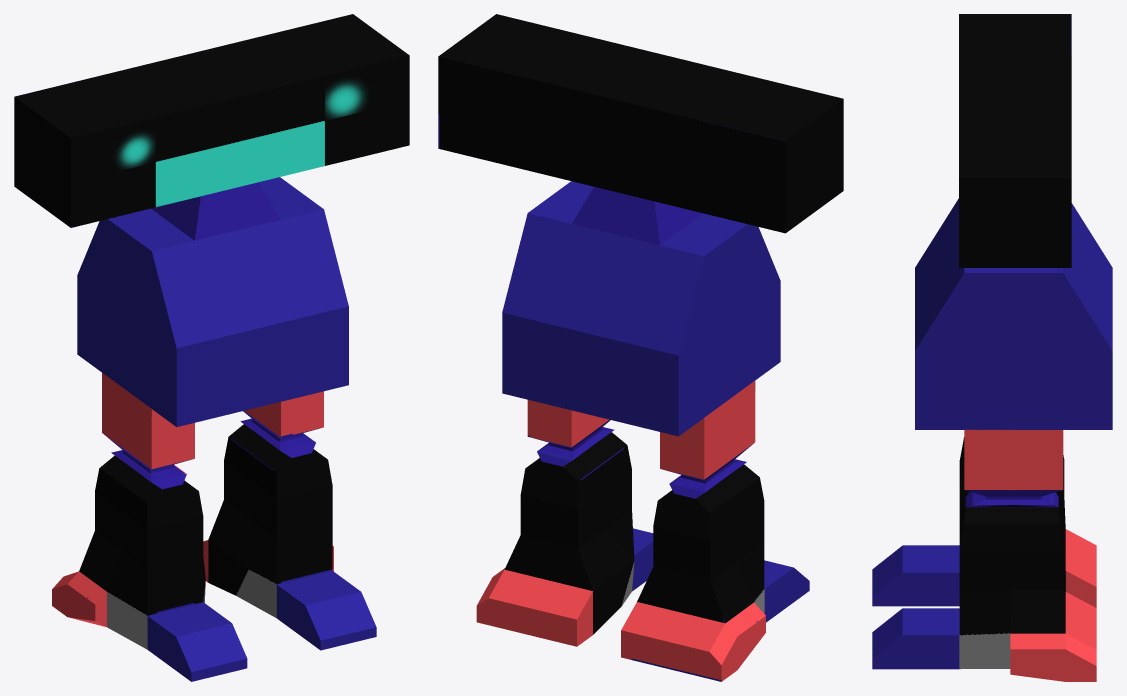
File: robo_10.fbx
3 views of the same model, side by side, from view 1: azimuth 30°, elevation 25°; view 2: azimuth 150°, elevation 25°; view 3: azimuth 270°, elevation 25° (orthographic). The views are drawn at different scales.
Visible parts, largest first — view 1: 立方体; view 2: 立方体; view 3: 立方体.
Boxes of the visible parts, <box> form: 立方体: <box>14,14,409,681</box>; 立方体: <box>438,14,843,681</box>; 立方体: <box>872,14,1112,681</box>.
Bounding box in the file's own units: 124 × 186 × 76.92.
Materials: 1 (1 with a texture image).
